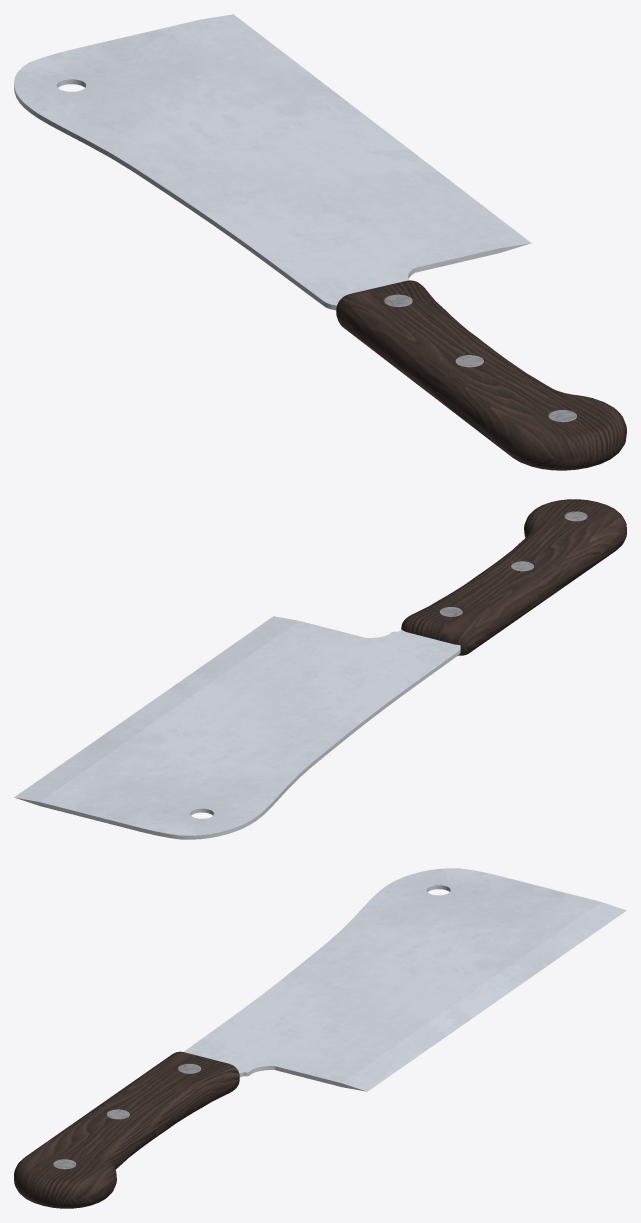
The model's file is knife-cleaver.fbx.
3 views of the same model, one above another, from view 1: azimuth 30°, elevation 25°; view 2: azimuth 150°, elevation 25°; view 3: azimuth 330°, elevation 25° (orthographic). The views are drawn at different scales.
Parts seen in each view (by area): view 1: knife_cleaver; view 2: knife_cleaver; view 3: knife_cleaver.
Boxes of the visible parts, <box> form: knife_cleaver: <box>14,14,626,470</box>; knife_cleaver: <box>14,499,626,839</box>; knife_cleaver: <box>14,868,626,1208</box>.
Size of the model in its own units: 3.95 by 0.5142 by 14.8.
